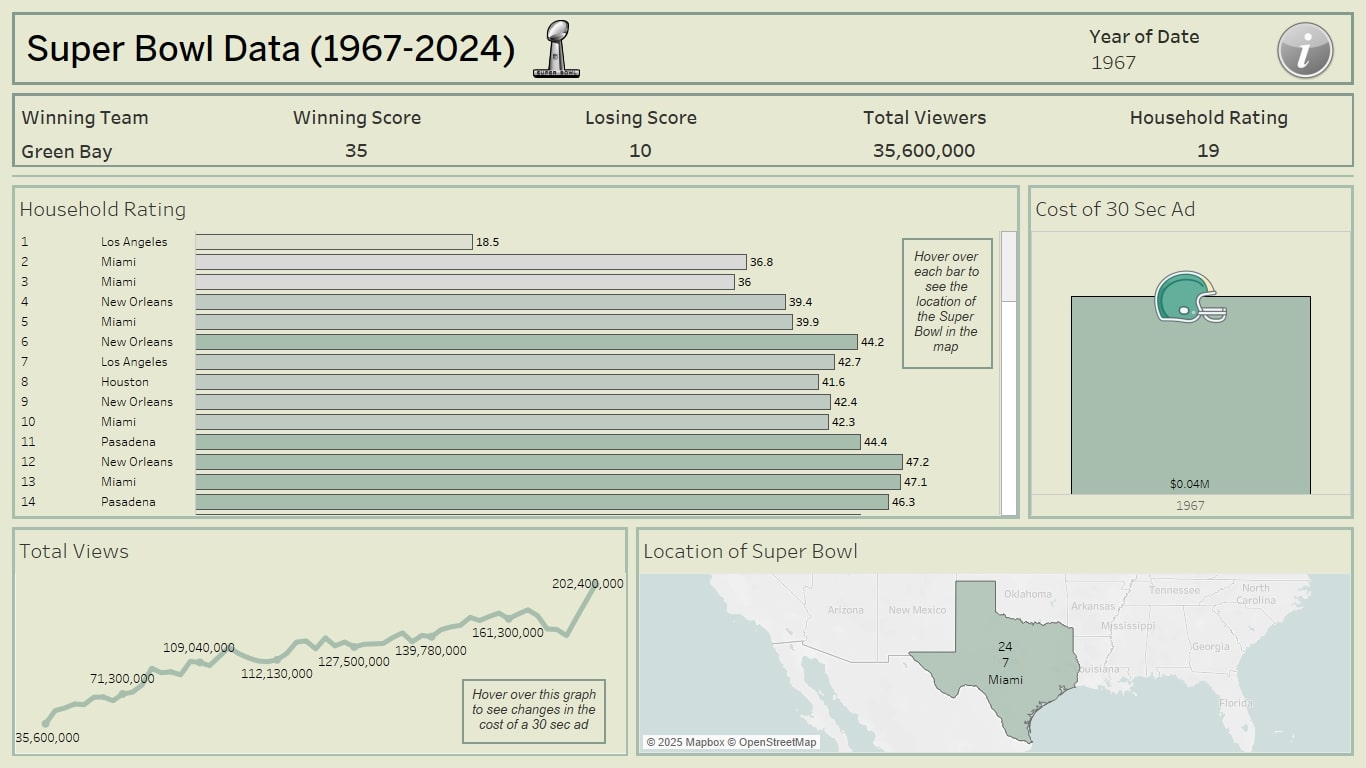

The dashboard page shown, as its layout file describes it:
{"tool":"tableau","page":{"name":"Dashboard 1","canvas":[1366,768],"ordinal":0},"visuals":[{"type":"title","box":[8,8,1350,81]},{"type":"worksheet","title":"SuperBowl Icon","mark":"Shape","rows":["Calculation_1850838720450326532"],"box":[497,10,118,96]},{"type":"filter","title":"KPI Banner","param":"[federated.1qvyz140gshgoa1edc5xq1xv6lr9].[yr:date:ok]","box":[1089,21,168,52]},{"type":"worksheet","title":"KPI Banner","mark":"Automatic","rows":["Winning_Team"],"box":[8,89,1350,82]},{"type":"blank","box":[8,171,1350,10]},{"type":"worksheet","title":"BarHHRating","mark":"Automatic","rows":["super_bowl_number","Location City (copy)_1031324325051035649"],"cols":["household_rating"],"box":[8,181,1016,342.4]},{"type":"worksheet","title":"Lollipop Chart","mark":"Bar","rows":["cost_of_30_second_ad_usd","cost_of_30_second_ad_usd"],"cols":["date"],"box":[1024,181,334,342.4]},{"type":"worksheet","title":"LineTotViews","mark":"Automatic","rows":["total_viewers"],"cols":["date"],"box":[8,523.4,624,236.6]},{"type":"worksheet","title":"Map","mark":"Automatic","box":[632,523.4,726,236.6]}]}

Visuals, with their boxes in screenshot pixels (x1, y1, x2, y2), scaled from the page's 1366x768 canvas onto the 1366x768 screenshot:
title: (x1=8, y1=8, x2=1358, y2=89)
"SuperBowl Icon" worksheet (Shape marks): (x1=497, y1=10, x2=615, y2=106)
"KPI Banner" filter: (x1=1089, y1=21, x2=1257, y2=73)
"KPI Banner" worksheet: (x1=8, y1=89, x2=1358, y2=171)
blank: (x1=8, y1=171, x2=1358, y2=181)
"BarHHRating" worksheet: (x1=8, y1=181, x2=1024, y2=523)
"Lollipop Chart" worksheet (Bar marks): (x1=1024, y1=181, x2=1358, y2=523)
"LineTotViews" worksheet: (x1=8, y1=523, x2=632, y2=760)
"Map" worksheet: (x1=632, y1=523, x2=1358, y2=760)
